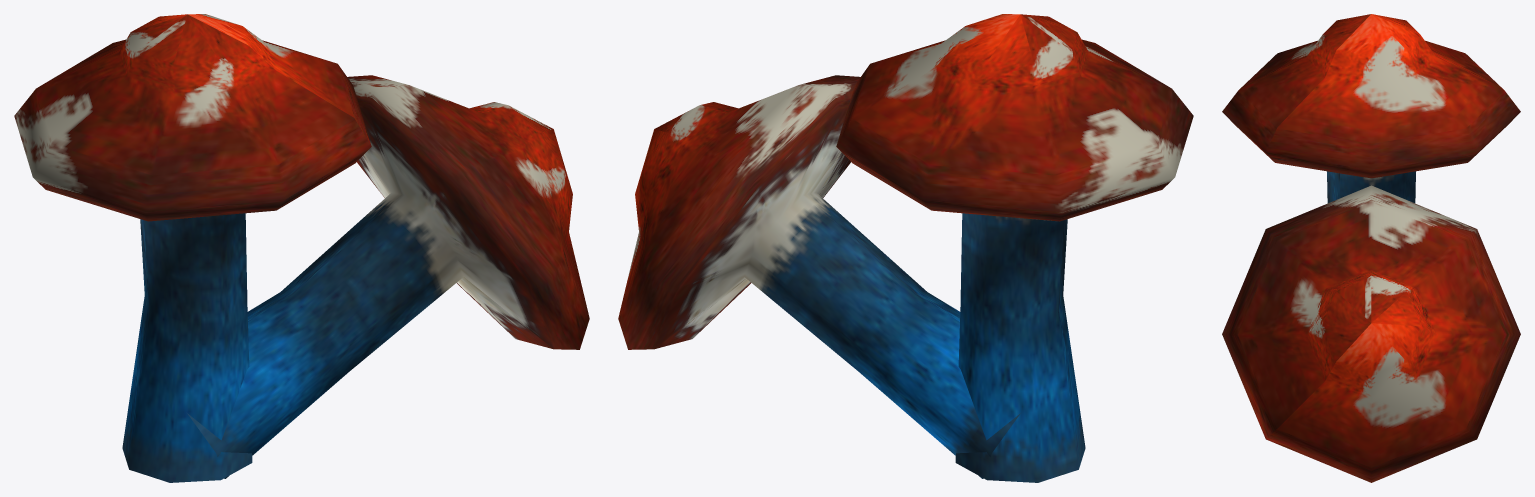
File: mushroom.dae
The picture shows the model from 3 angles, left to right: view 1: azimuth 30°, elevation 25°; view 2: azimuth 150°, elevation 25°; view 3: azimuth 270°, elevation 25°; orthographic projection. The views are drawn at different scales.
Visible parts, largest first — view 1: mushroom2, mushroom1; view 2: mushroom2, mushroom1; view 3: mushroom1, mushroom2.
Part boxes in pixels (x1,y1,x2,y2): mushroom2: (14,14,371,482); mushroom1: (187,75,589,478); mushroom2: (836,14,1193,482); mushroom1: (618,75,1020,478); mushroom1: (1222,185,1520,482); mushroom2: (1222,14,1520,203).
Size of the model in its own units: 0.2915 by 0.1777 by 0.2471.
1 material, 1 textured.
